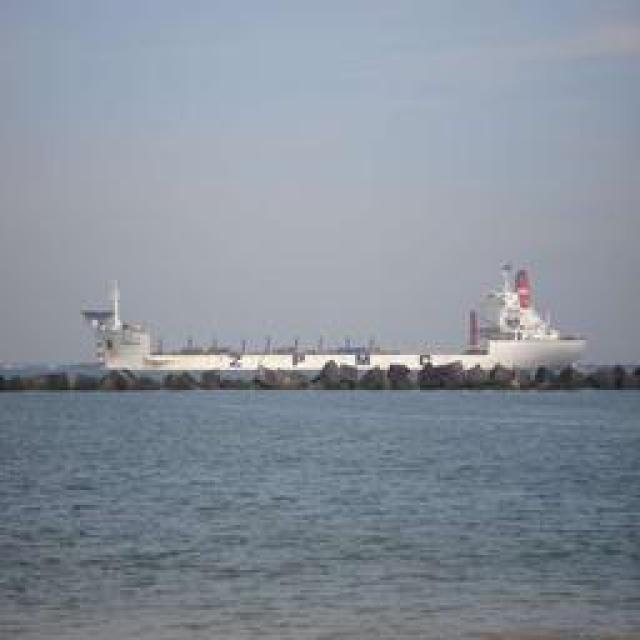Ship: (472, 260, 590, 378)
